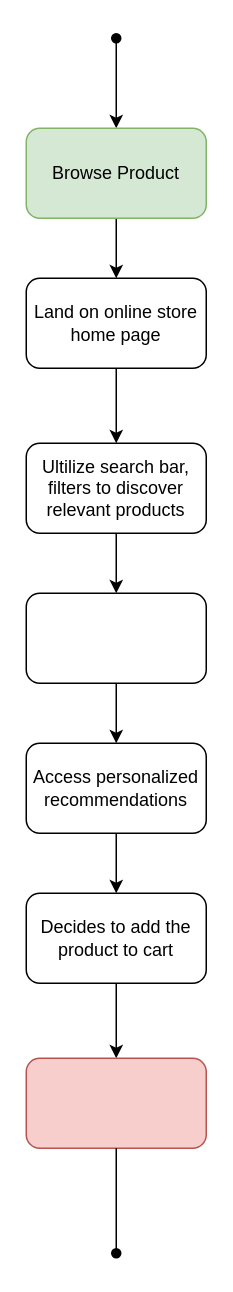
Some shapes in this 233 by 1292 pixel diagram are drawn without their labels. Each missing label, with the centre of its shape:
Click on product to view detailed information: point 115,637
Close event: point 115,1102
